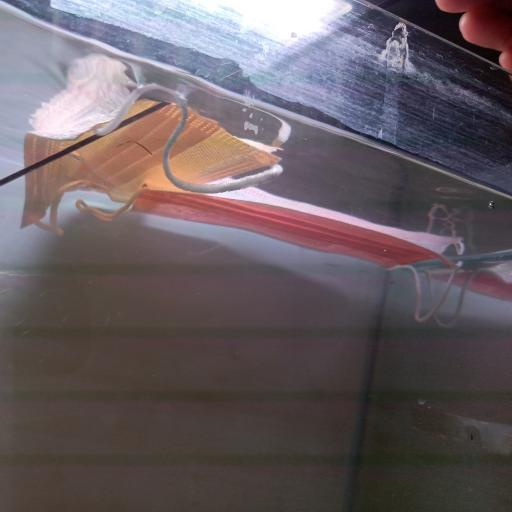mask: (78, 178, 481, 333), (22, 82, 283, 236)
